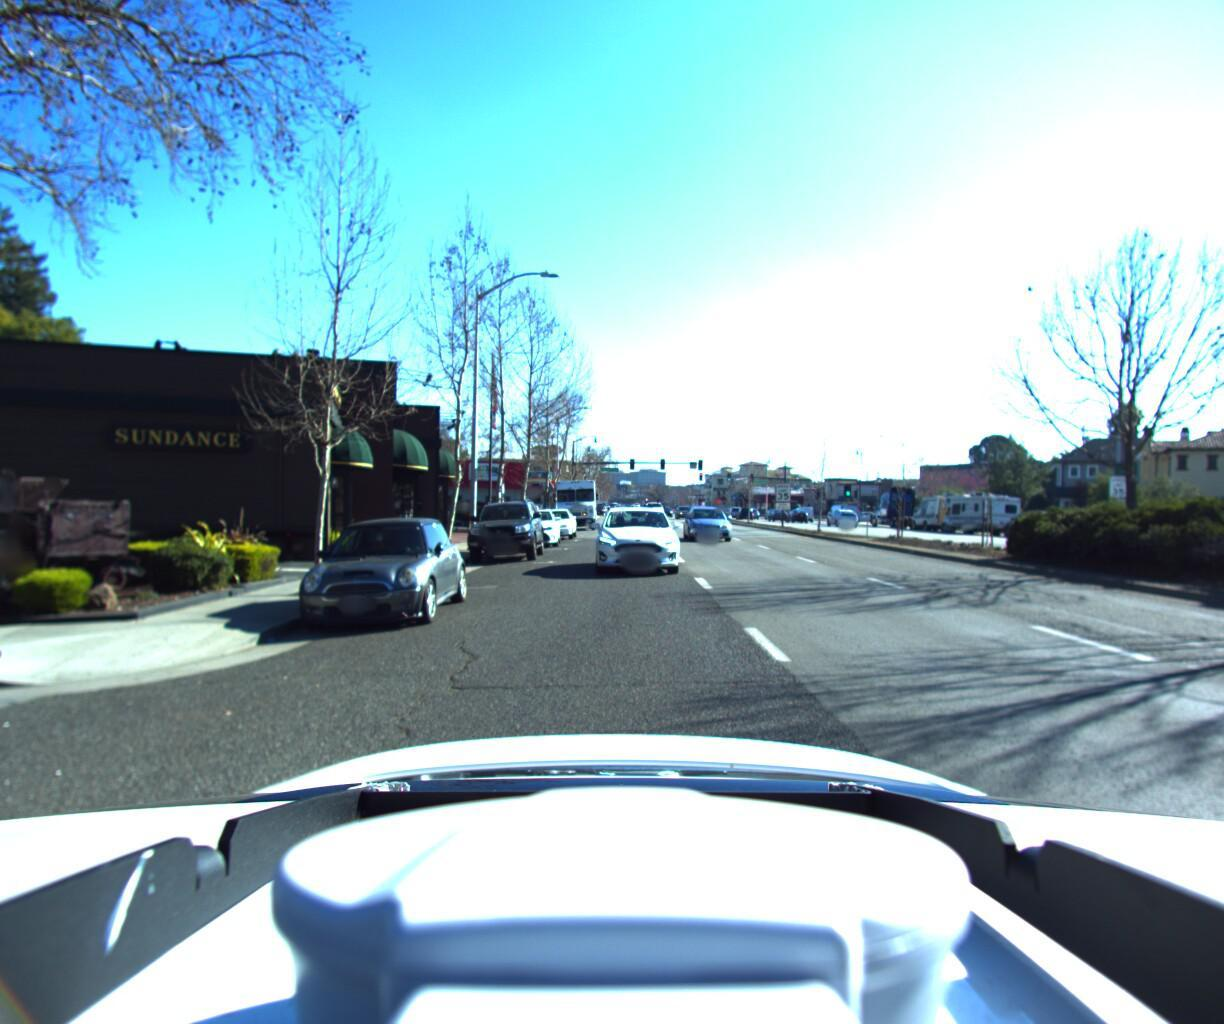car: (282, 503, 468, 636), (584, 501, 677, 578), (460, 491, 542, 565), (504, 502, 561, 548), (682, 504, 734, 544), (528, 502, 577, 539), (822, 497, 856, 522), (821, 511, 854, 530)
other_vehicle: (934, 485, 1026, 533), (905, 487, 969, 530)
truck: (869, 481, 930, 526), (549, 477, 597, 529)
